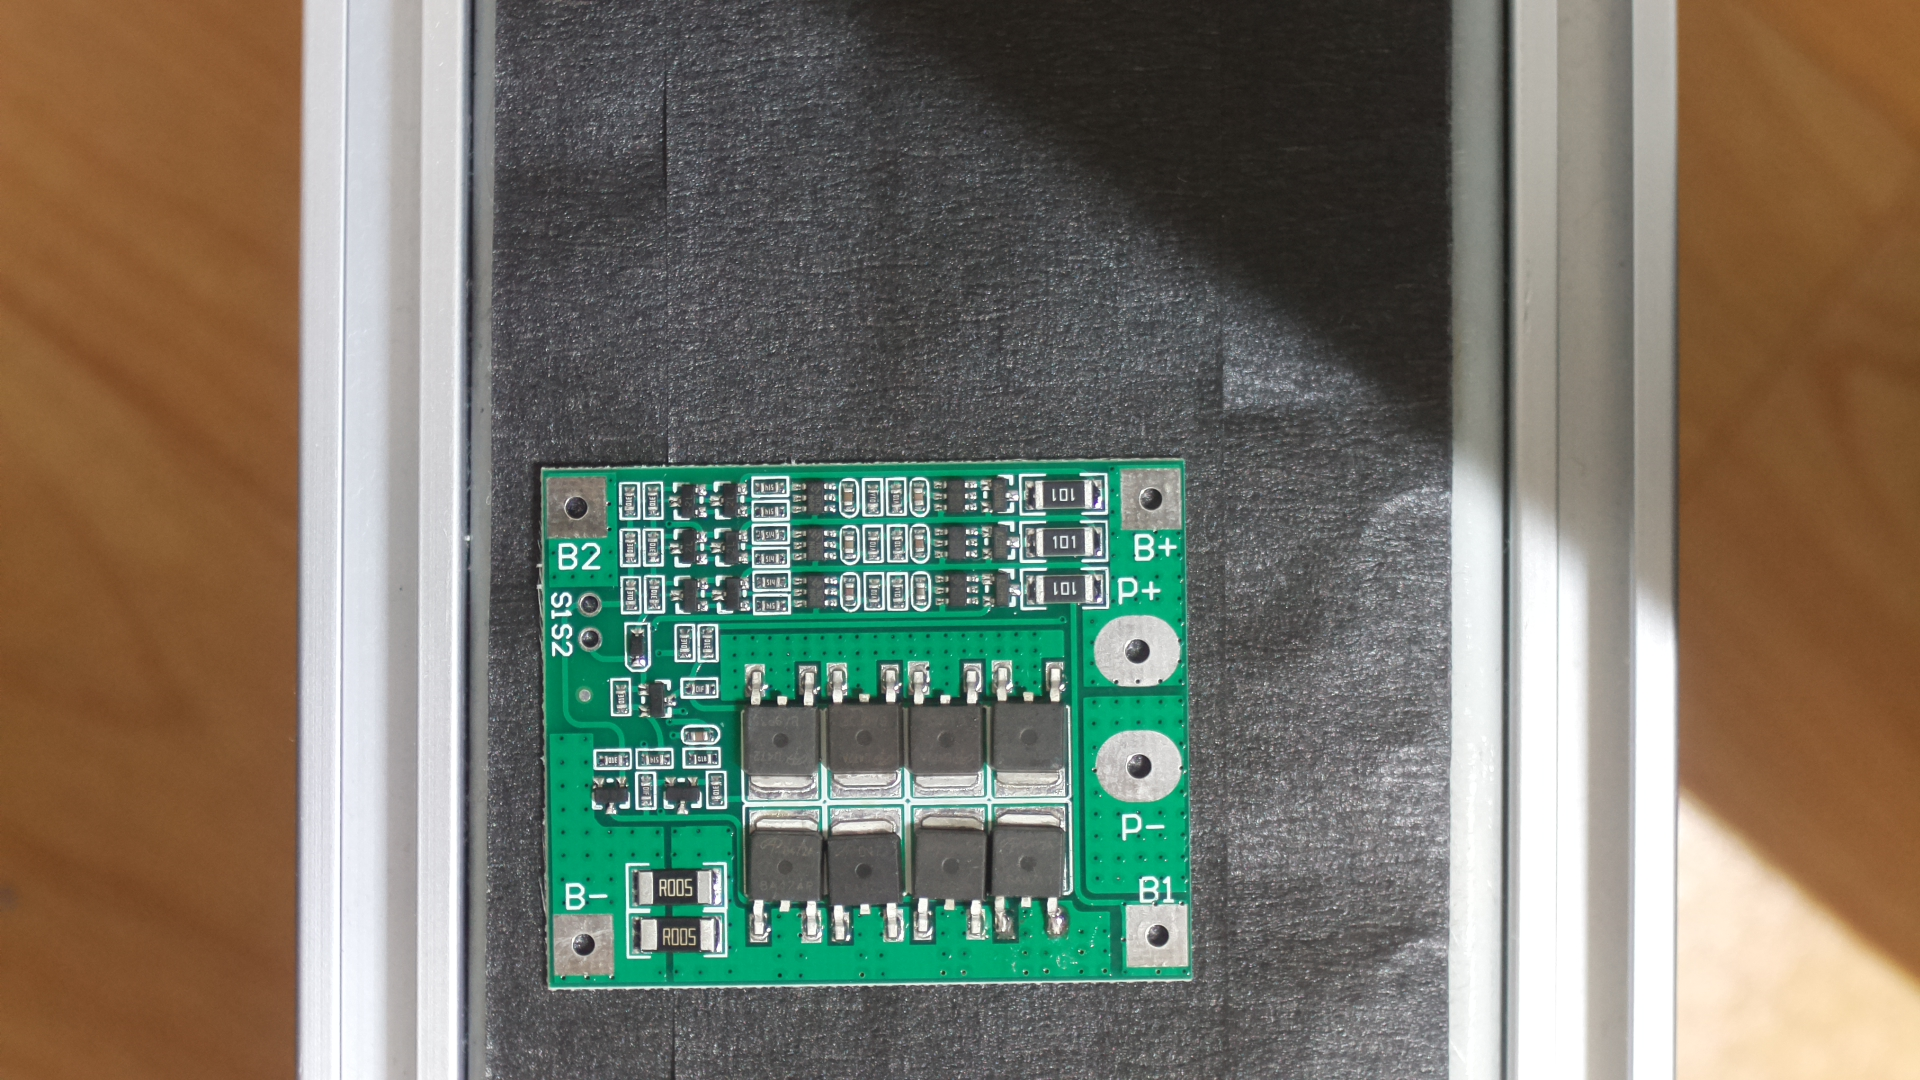C_Normal: (520, 435, 1222, 1004)
